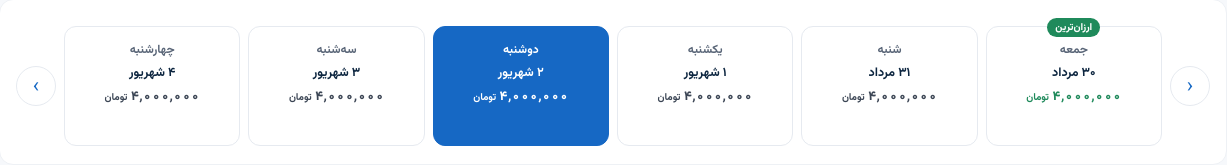
FlightPriceCalendar › ignores a stale slower response after two rapid one-day arrow clicks
Click the button with test id "price-calendar-next" at [36, 86], box x1=16 y1=66 x2=56 y2=106
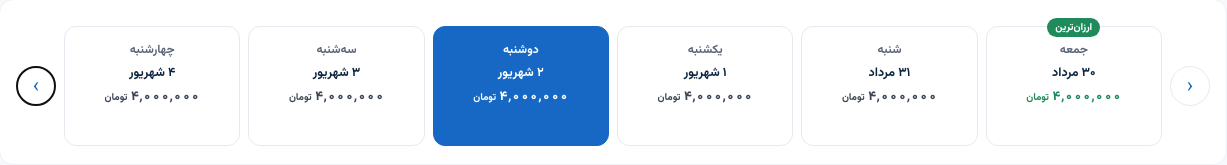
Click the button with test id "price-calendar-next" at [36, 86], box x1=16 y1=66 x2=56 y2=106
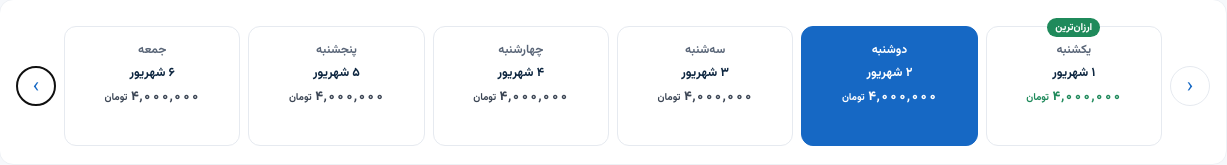
Expected: the button with test id "price-calendar-day-2026-08-28" is shown, x1=64 y1=26 x2=240 y2=146
Expected: the button with test id "price-calendar-day-2026-08-22" is gone
